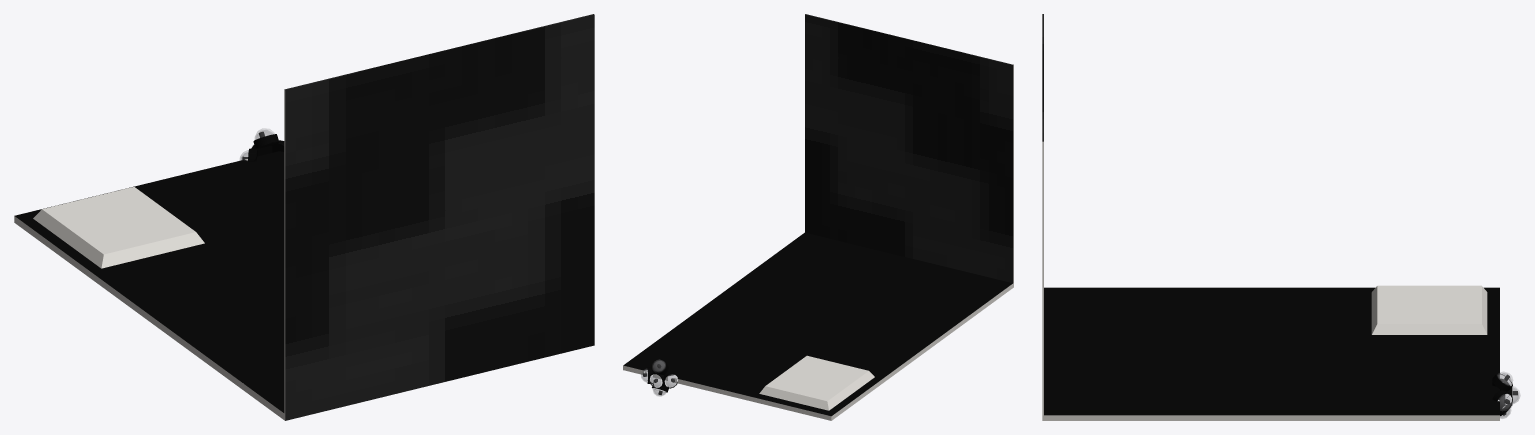
Rendered from plankton.glb.
The picture shows the model from 3 angles, left to right: view 1: azimuth 30°, elevation 25°; view 2: azimuth 150°, elevation 25°; view 3: azimuth 270°, elevation 25°; orthographic projection. The views are drawn at different scales.
Bounding box in the file's own units: 0.0056 × 0.00683 × 0.00886.
5 materials, 1 textured.
